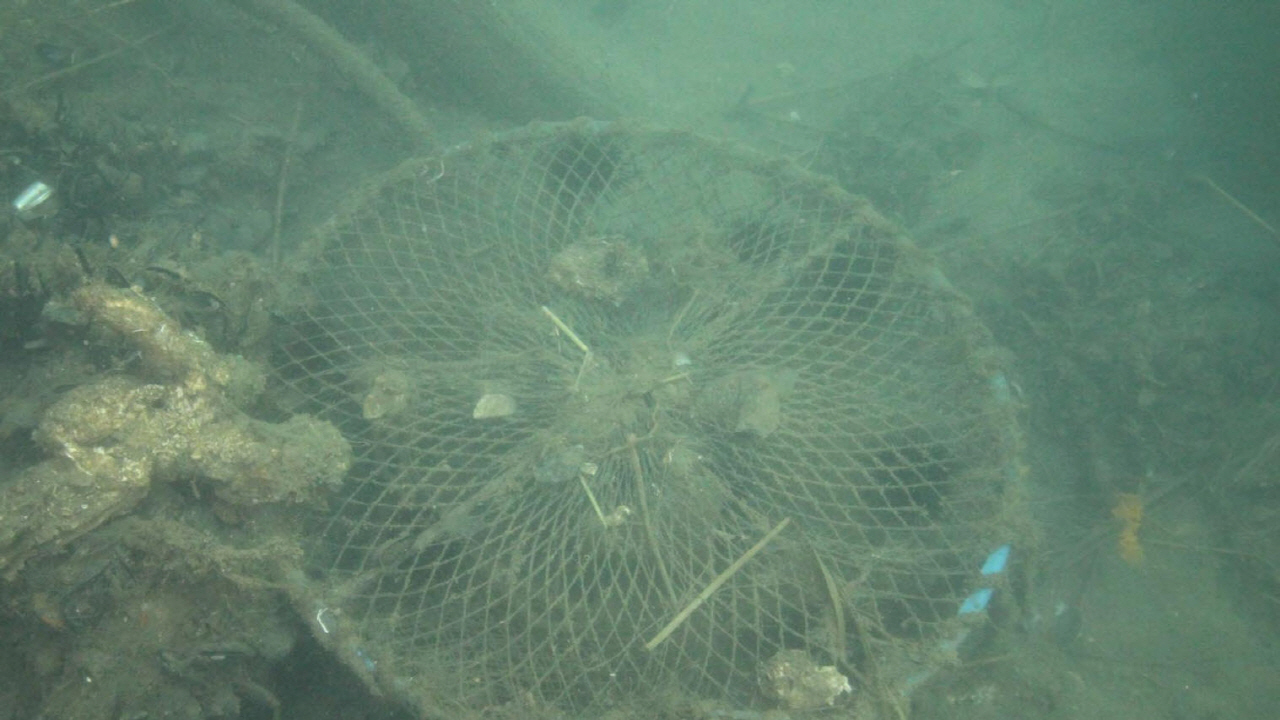circular fish trap: (231, 115, 1023, 720)
